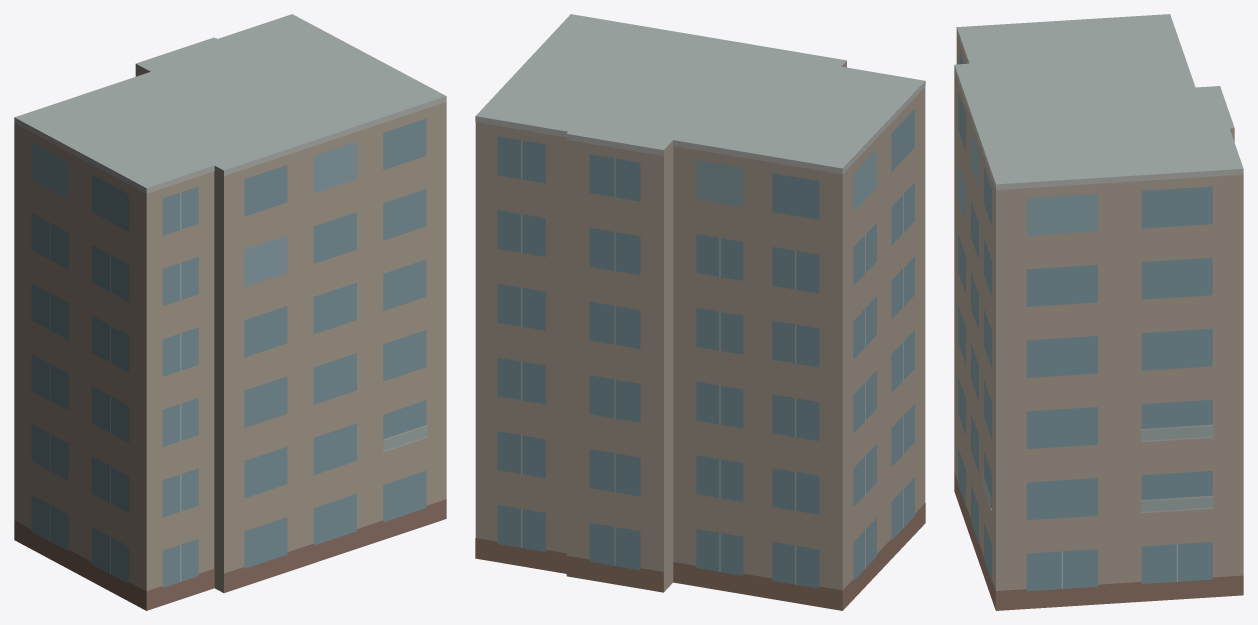
The model's file is survey-upis-33020586.glb.
3 renders of one model, left to right at view 1: azimuth 30°, elevation 25°; view 2: azimuth 150°, elevation 25°; view 3: azimuth 270°, elevation 25°, orthographic. The views are drawn at different scales.
Parts seen in each view (by area): view 1: survey-upis-33020586.tmp; view 2: survey-upis-33020586.tmp; view 3: survey-upis-33020586.tmp.
Boxes of the visible parts, x1,y1,x2,y2 form: survey-upis-33020586.tmp: (14,14,446,610); survey-upis-33020586.tmp: (475,14,925,610); survey-upis-33020586.tmp: (954,14,1243,610).
Size of the model in its own units: 15.52 by 18.1 by 11.13.
